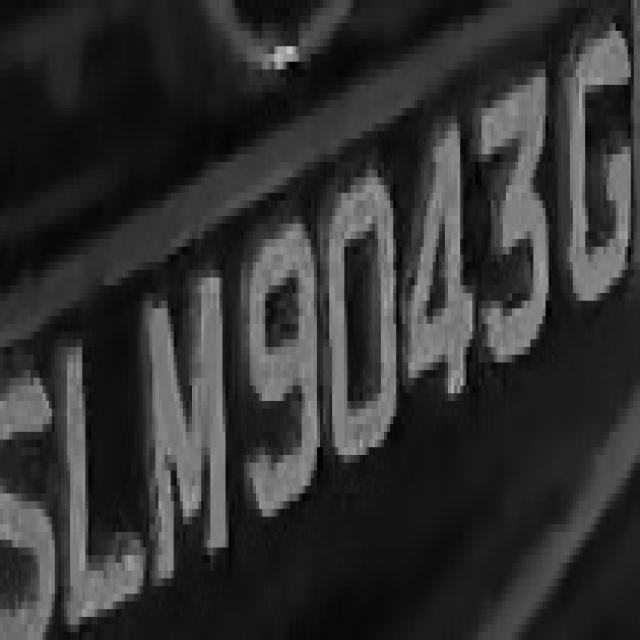0: (320, 170, 405, 462)
3: (470, 69, 546, 378)
4: (399, 116, 485, 447)
9: (229, 224, 329, 524)
G: (564, 31, 637, 324)
L: (64, 308, 146, 632)
M: (131, 277, 235, 563)
S: (6, 332, 64, 624)
